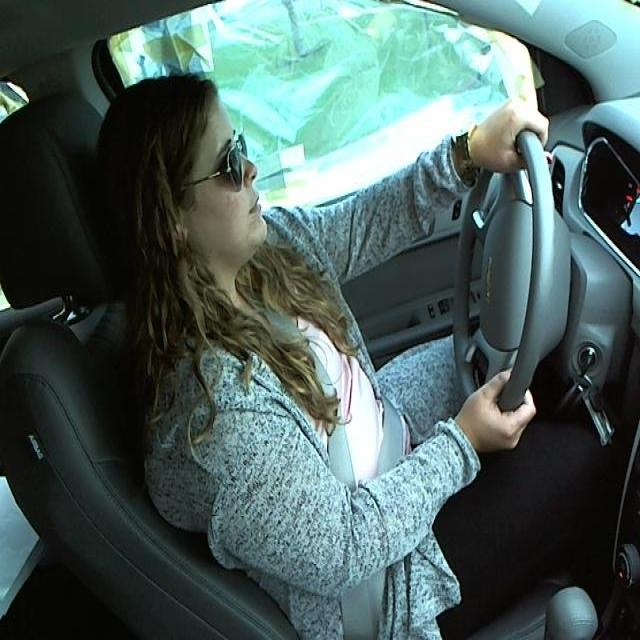without_using_phone: (80, 54, 317, 344)
